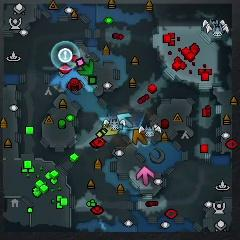x1: (136, 165, 154, 186)
x2: (102, 124, 119, 135)
x3: (116, 113, 133, 128)
x4: (78, 60, 94, 76)
x5: (133, 129, 148, 145)
